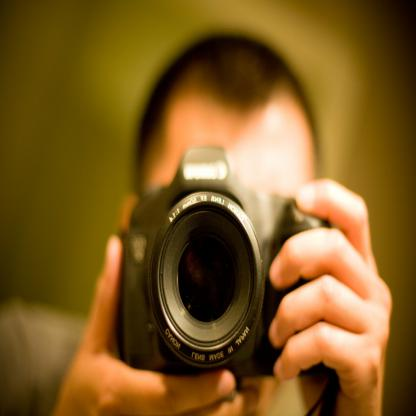Camera: (101, 136, 336, 378)
